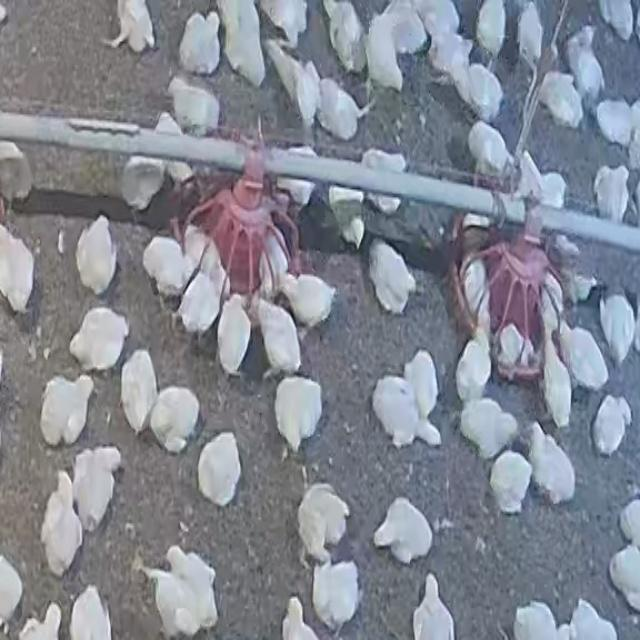chicken: (140, 546, 220, 638), (40, 472, 84, 575), (70, 446, 122, 533), (296, 483, 350, 565), (372, 496, 433, 566), (365, 8, 415, 92), (68, 306, 129, 373), (39, 374, 94, 448), (458, 397, 520, 462), (525, 423, 574, 505), (274, 375, 324, 455), (371, 375, 425, 449), (310, 556, 361, 632), (368, 240, 418, 316), (314, 74, 370, 141), (148, 386, 202, 455), (74, 214, 119, 296), (255, 297, 302, 375), (176, 266, 224, 342), (0, 218, 37, 316), (557, 322, 607, 393), (278, 271, 337, 330), (119, 349, 159, 436), (196, 433, 243, 506), (540, 321, 572, 427), (219, 0, 261, 80), (360, 149, 408, 219), (148, 114, 192, 190), (140, 235, 192, 299), (216, 294, 254, 378), (166, 74, 220, 133), (324, 2, 368, 71), (565, 27, 606, 101), (412, 573, 457, 640), (426, 30, 475, 91), (466, 119, 513, 181), (536, 72, 586, 130), (488, 451, 534, 514), (458, 63, 506, 123), (598, 293, 636, 368), (119, 156, 168, 214), (176, 9, 221, 72), (274, 144, 318, 208), (455, 332, 494, 402), (404, 349, 440, 423), (592, 395, 633, 457), (107, 0, 154, 54), (264, 33, 301, 101), (413, 0, 461, 51), (70, 587, 116, 639), (257, 228, 291, 297), (592, 165, 632, 223), (0, 140, 34, 208), (259, 0, 308, 45), (608, 545, 640, 613), (328, 187, 366, 244), (569, 598, 619, 640), (516, 2, 545, 72), (512, 600, 562, 640), (283, 596, 329, 639), (595, 98, 636, 146), (461, 253, 488, 324), (476, 0, 508, 59), (535, 275, 564, 338), (514, 151, 546, 207), (184, 225, 216, 276), (21, 601, 62, 640), (497, 323, 529, 372), (295, 49, 316, 123), (598, 0, 635, 40), (535, 171, 567, 211), (619, 497, 640, 549), (564, 276, 600, 300)
